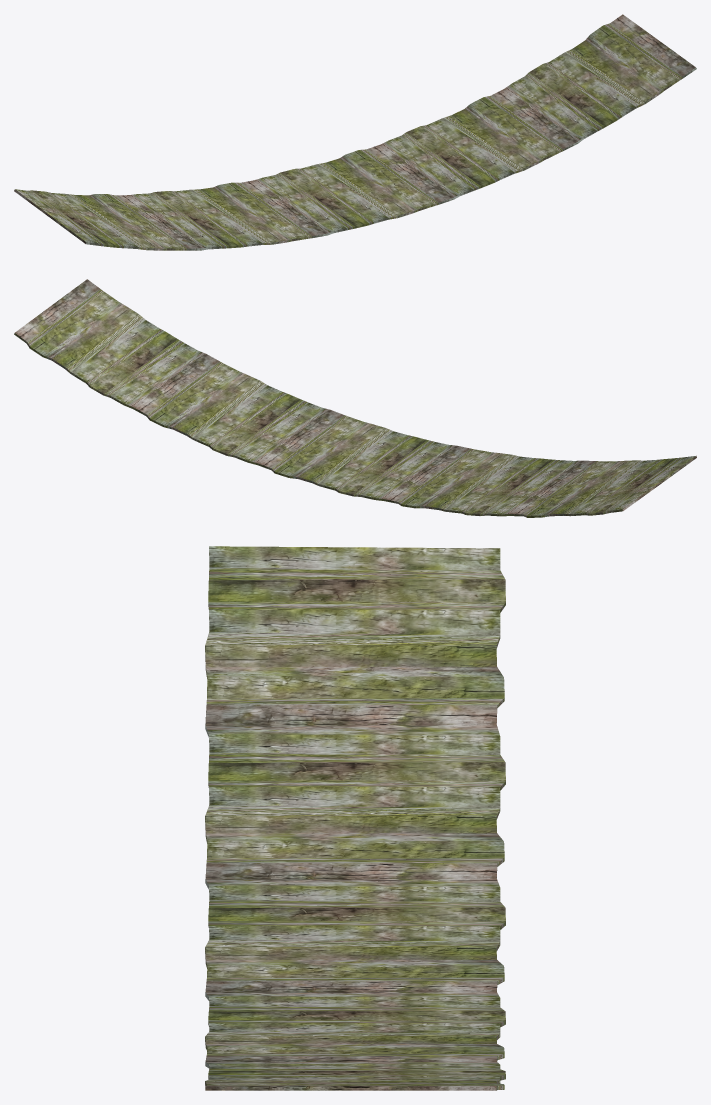
Rendered from Col-R-1 14.fbx.
3 views of the same model, one above another, from view 1: azimuth 30°, elevation 25°; view 2: azimuth 150°, elevation 25°; view 3: azimuth 270°, elevation 25° (orthographic). The views are drawn at different scales.
Parts seen in each view (by area): view 1: ramp_001; view 2: ramp_001; view 3: ramp_001.
Boxes of the visible parts, <box> form: ramp_001: <box>14,14,696,250</box>; ramp_001: <box>14,279,696,517</box>; ramp_001: <box>205,546,505,1090</box>.
Bounding box in the file's own units: 965 × 119 × 206.
